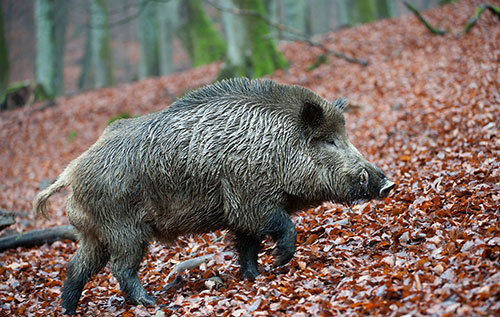boar: (27, 70, 403, 317)
